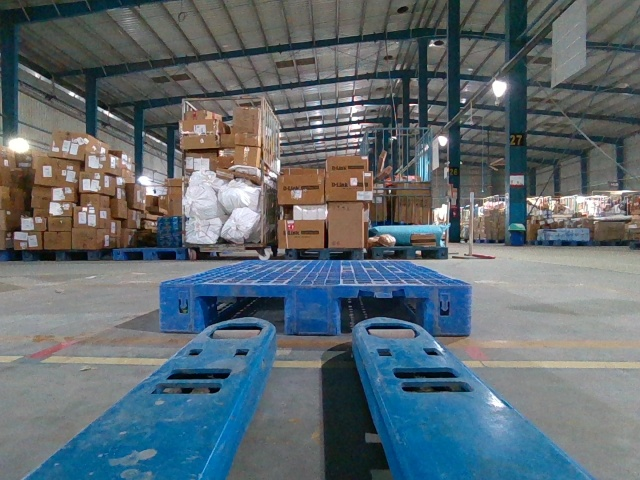block: (283, 284, 340, 334), (158, 281, 203, 334), (431, 286, 470, 338)
front: (161, 282, 472, 337)
hole pallet: (195, 296, 287, 333), (340, 297, 433, 333)
